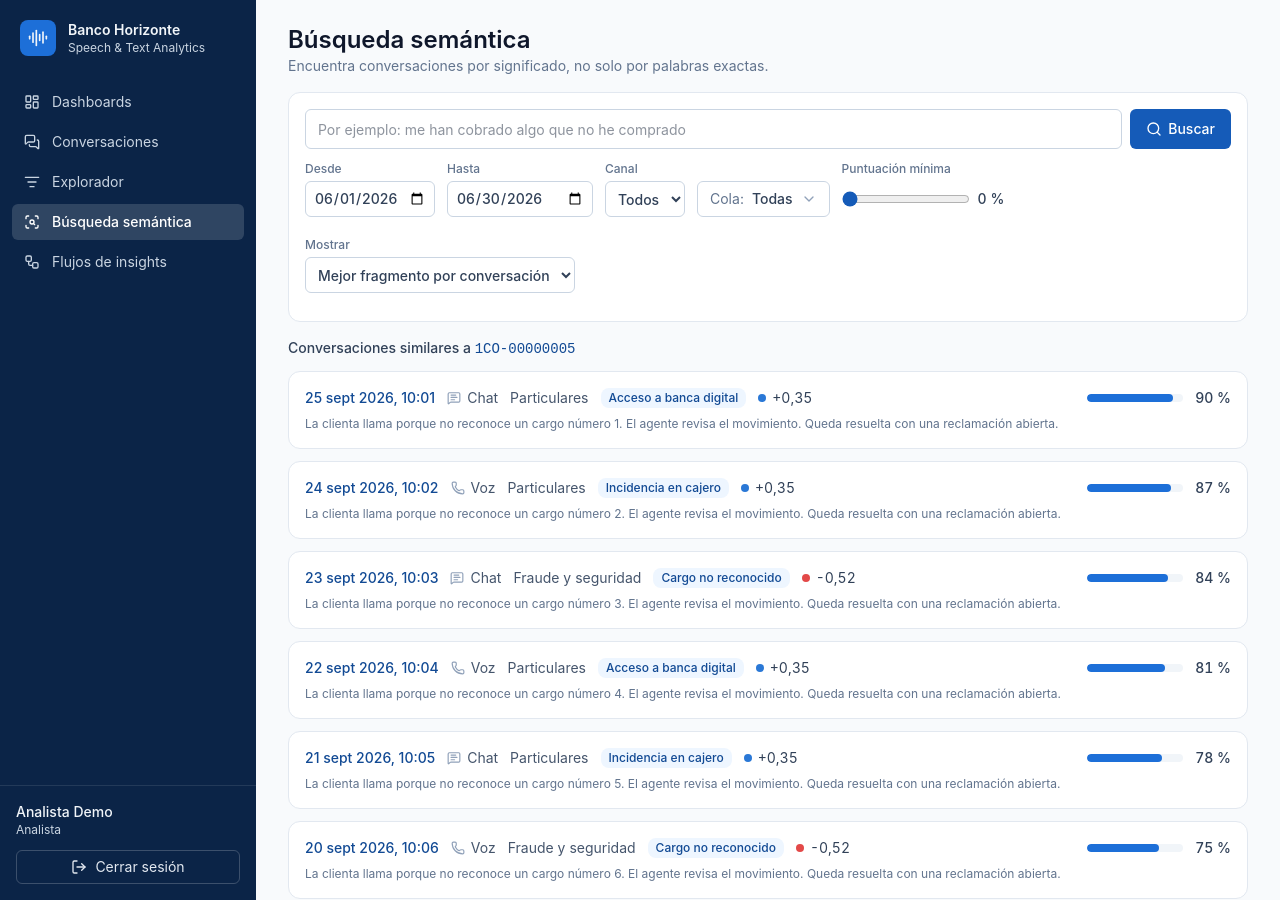
Scenario: conversaciones similares › buscar un texto desde la vista de similares sale de ella
The width and height of the screenshot is (1280, 900).
Type "me han cobrado algo que no he comprado" into the search field named "Consulta" at (714, 129), box [305,109,1122,149]
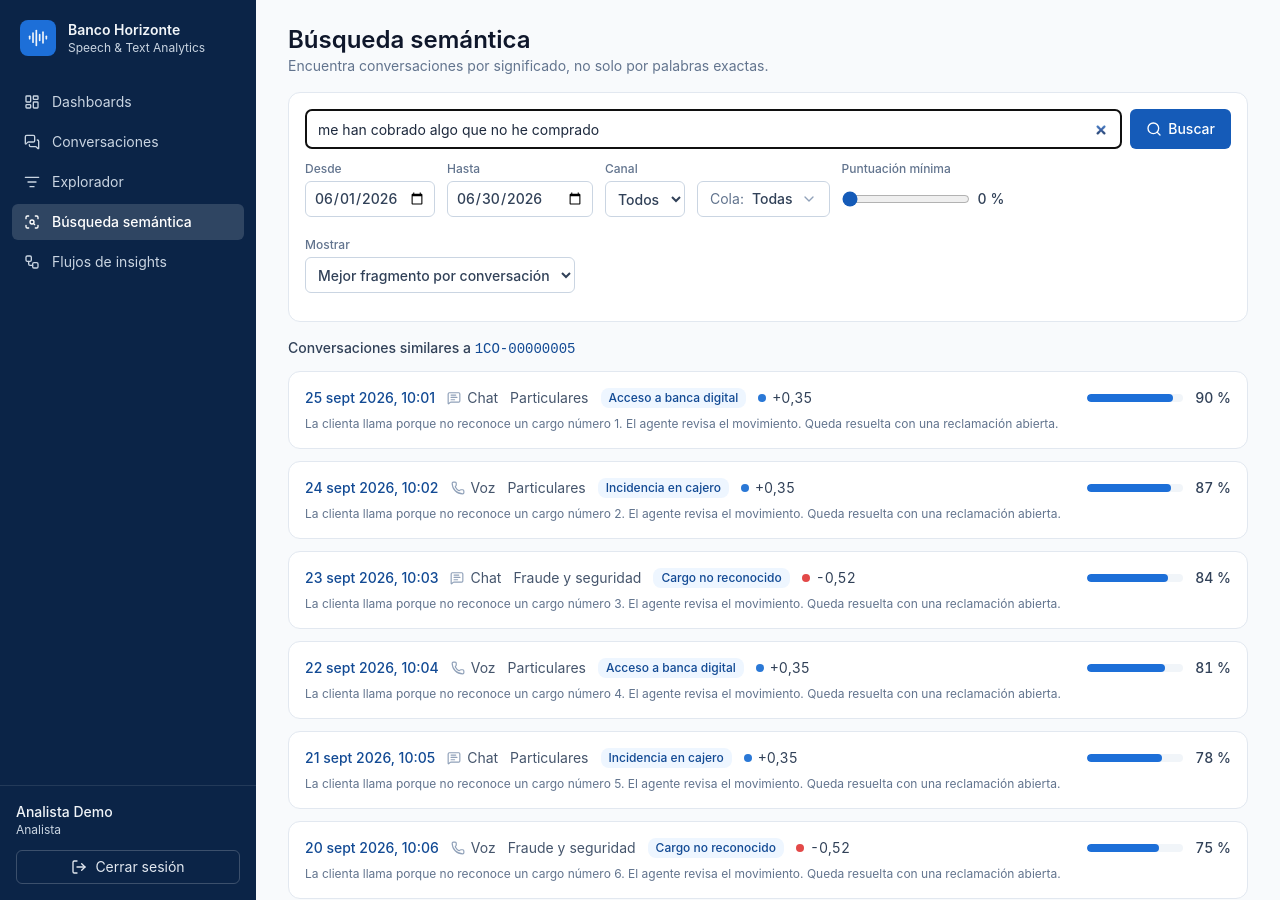
Click the button "Buscar" at (1181, 129), box [1130,109,1231,149]
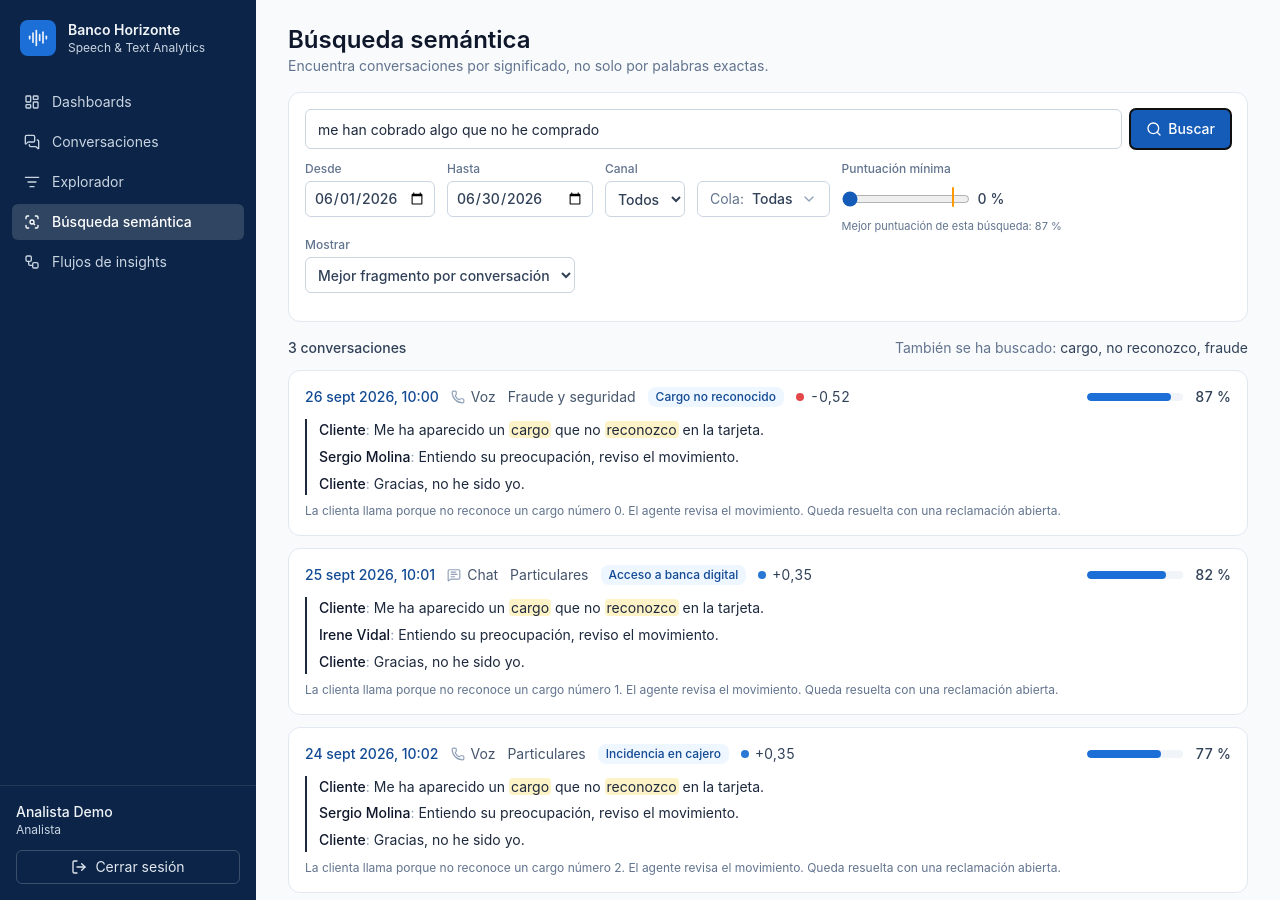
Expected: the text "3 conversaciones" is shown, [288,338,406,358]
